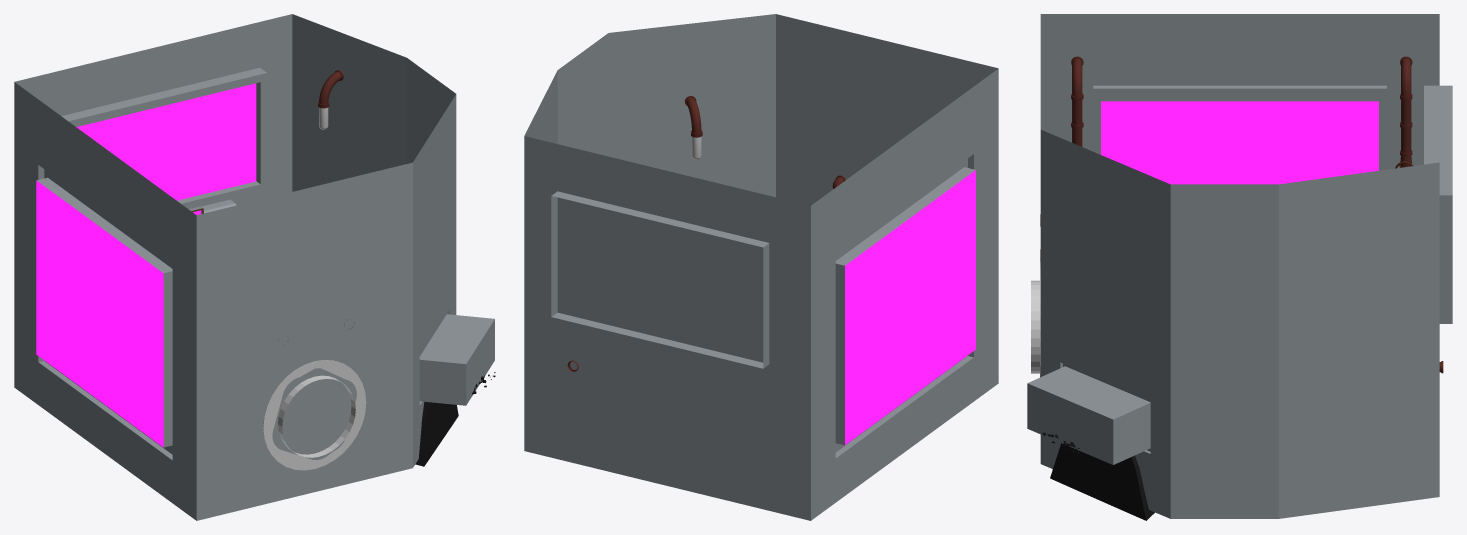
File: Test Room 3.fbx
The picture shows the model from 3 angles, left to right: view 1: azimuth 30°, elevation 25°; view 2: azimuth 150°, elevation 25°; view 3: azimuth 270°, elevation 25°; orthographic projection. The views are drawn at different scales.
Parts seen in each view (by area): view 1: Room, Cube.001; view 2: Room, Cube.001; view 3: Room, Cube.001.
Boxes of the visible parts, <box> form: Room: <box>14,14,495,520</box>; Cube.001: <box>61,68,266,208</box>; Room: <box>524,14,998,520</box>; Cube.001: <box>551,191,769,368</box>; Room: <box>1027,14,1443,520</box>; Cube.001: <box>1424,85,1452,323</box>.
Size of the model in its own units: 250 by 221 by 250.
